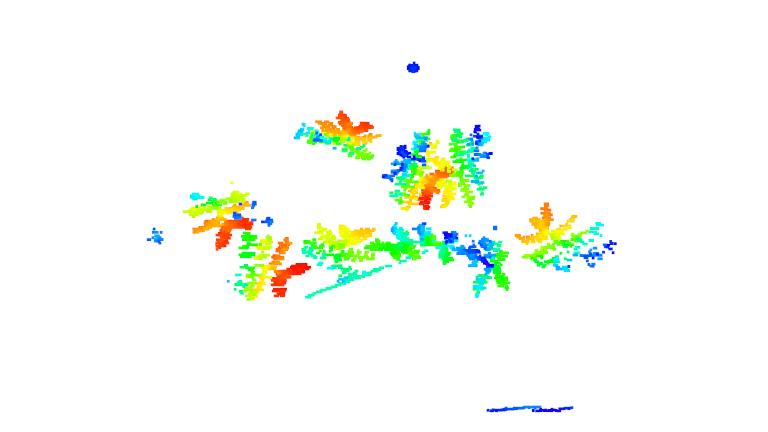chickpea: (368, 219, 512, 302), (516, 197, 622, 272), (431, 124, 500, 205), (235, 230, 311, 302), (179, 179, 259, 247), (306, 209, 379, 279), (291, 110, 377, 169), (389, 121, 437, 216)
